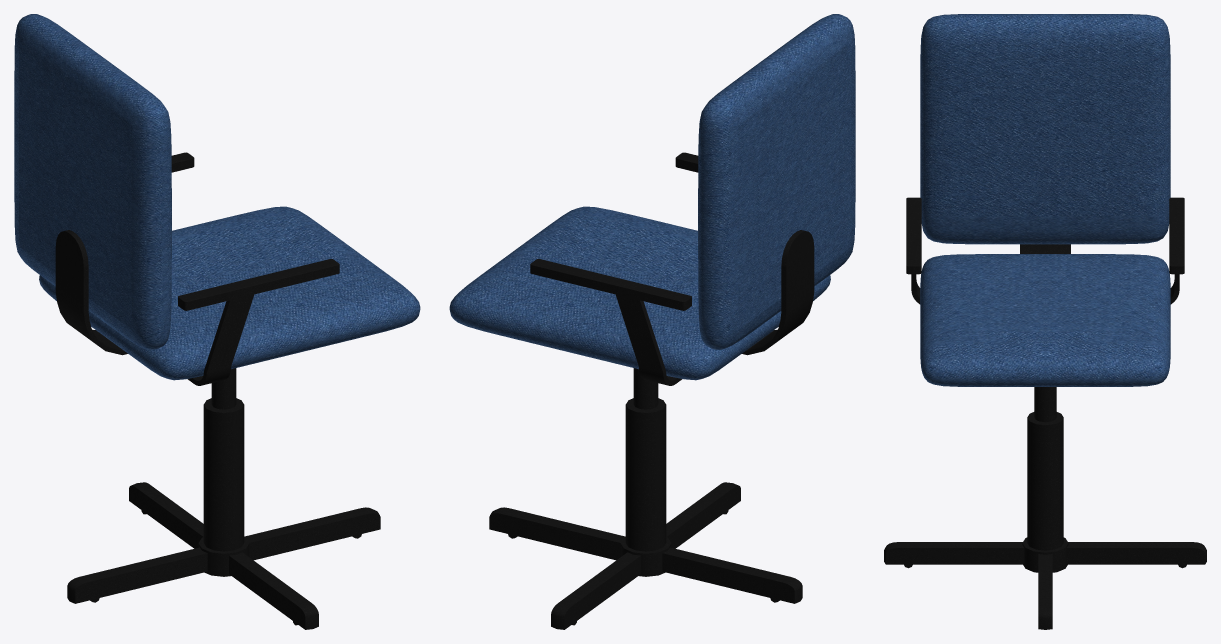
The model's file is office_chair.obj.
3 renders of one model, left to right at view 1: azimuth 30°, elevation 25°; view 2: azimuth 150°, elevation 25°; view 3: azimuth 270°, elevation 25°, orthographic. The views are drawn at different scales.
Visible parts, largest first — view 1: office_chair; view 2: office_chair; view 3: office_chair.
Boxes of the visible parts, <box> form: office_chair: <box>14,14,420,629</box>; office_chair: <box>449,14,855,629</box>; office_chair: <box>884,14,1206,629</box>.
Bounding box in the file's own units: 0.7 × 1.18 × 0.7.
2 materials, 2 textured.
